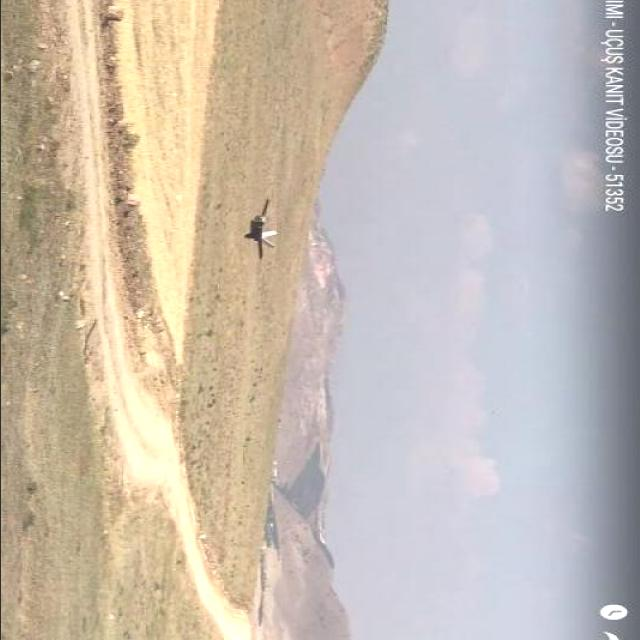plane: (243, 196, 278, 258)
